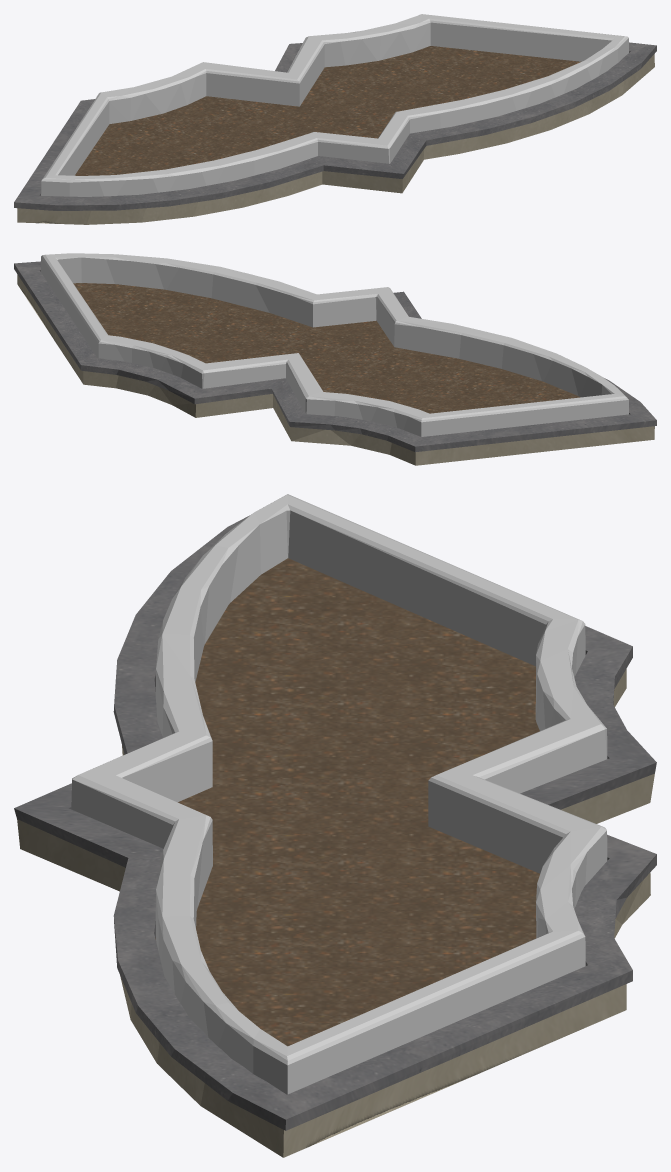
File: [low]planter_side.fbx
3 views of the same model, one above another, from view 1: azimuth 30°, elevation 25°; view 2: azimuth 150°, elevation 25°; view 3: azimuth 270°, elevation 25° (orthographic). The views are drawn at different scales.
Visible parts, largest first — view 1: Planter_save, BezierCurve; view 2: Planter_save, BezierCurve; view 3: Planter_save, BezierCurve.
Part boxes in pixels (x1,y1,x2,y2): Planter_save: (14, 42, 656, 224); BezierCurve: (41, 14, 628, 196); Planter_save: (14, 261, 656, 465); BezierCurve: (41, 253, 628, 436); Planter_save: (14, 515, 656, 1157); BezierCurve: (71, 494, 607, 1094).
Bounding box in the file's own units: 549 × 30.4 × 240.
